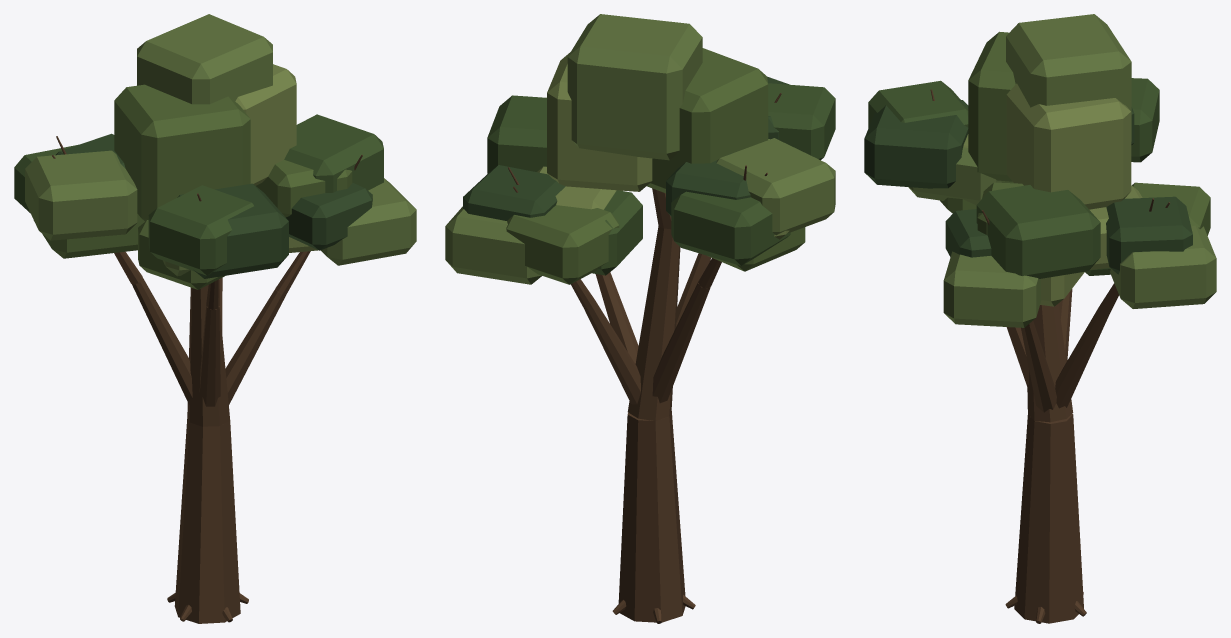
The model's file is apple_sapling.glb.
3 views of the same model, side by side, from view 1: azimuth 30°, elevation 25°; view 2: azimuth 150°, elevation 25°; view 3: azimuth 270°, elevation 25° (orthographic). The views are drawn at different scales.
Parts seen in each view (by area): view 1: apple_sapling; view 2: apple_sapling; view 3: apple_sapling.
Boxes of the visible parts, x1,y1,x2,y2 form: apple_sapling: (14, 14, 416, 623); apple_sapling: (445, 14, 835, 623); apple_sapling: (864, 14, 1216, 623).
Size of the model in its own units: 3.83 by 6 by 3.33.
